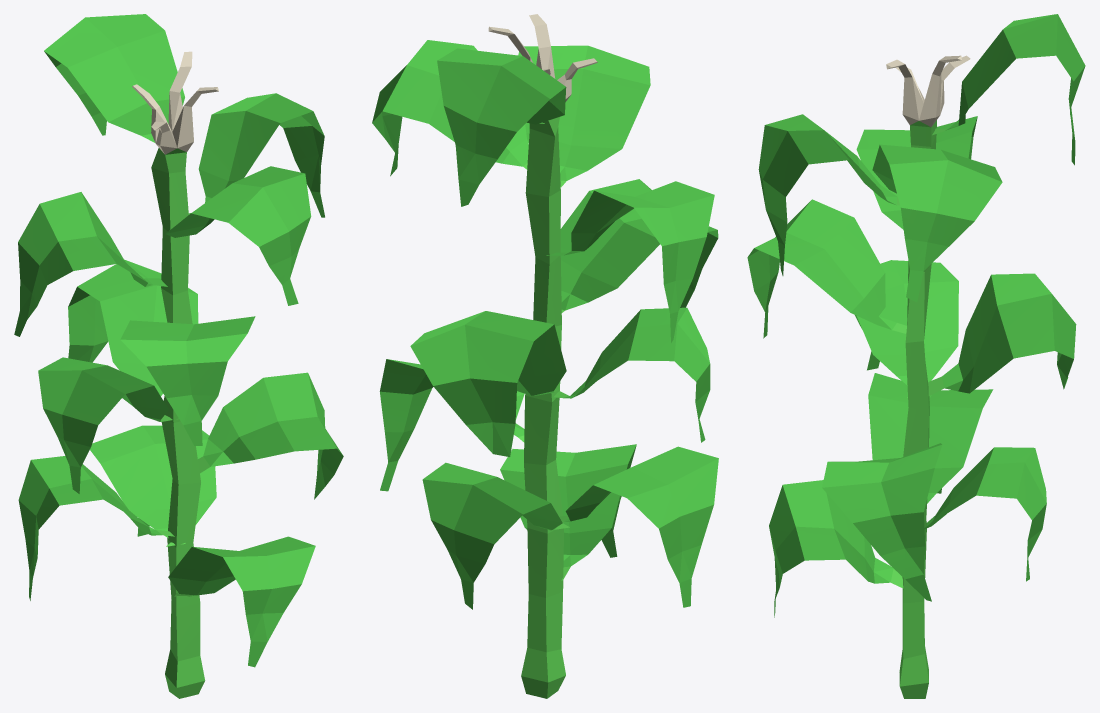
The model's file is SM_Prop_Plant_Corn_01_L_Var_02.fbx.
The picture shows the model from 3 angles, left to right: view 1: azimuth 30°, elevation 25°; view 2: azimuth 150°, elevation 25°; view 3: azimuth 270°, elevation 25°; orthographic projection. The views are drawn at different scales.
Parts seen in each view (by area): view 1: SM_Prop_Plant_Corn_01_L_Var_02; view 2: SM_Prop_Plant_Corn_01_L_Var_02; view 3: SM_Prop_Plant_Corn_01_L_Var_02.
Part boxes in pixels (x1,y1,x2,y2): SM_Prop_Plant_Corn_01_L_Var_02: [14, 14, 343, 698]; SM_Prop_Plant_Corn_01_L_Var_02: [372, 14, 718, 698]; SM_Prop_Plant_Corn_01_L_Var_02: [747, 14, 1085, 698].
Bounding box in the file's own units: 1.07 × 2.19 × 1.01.
Materials: 1 (1 with a texture image).
